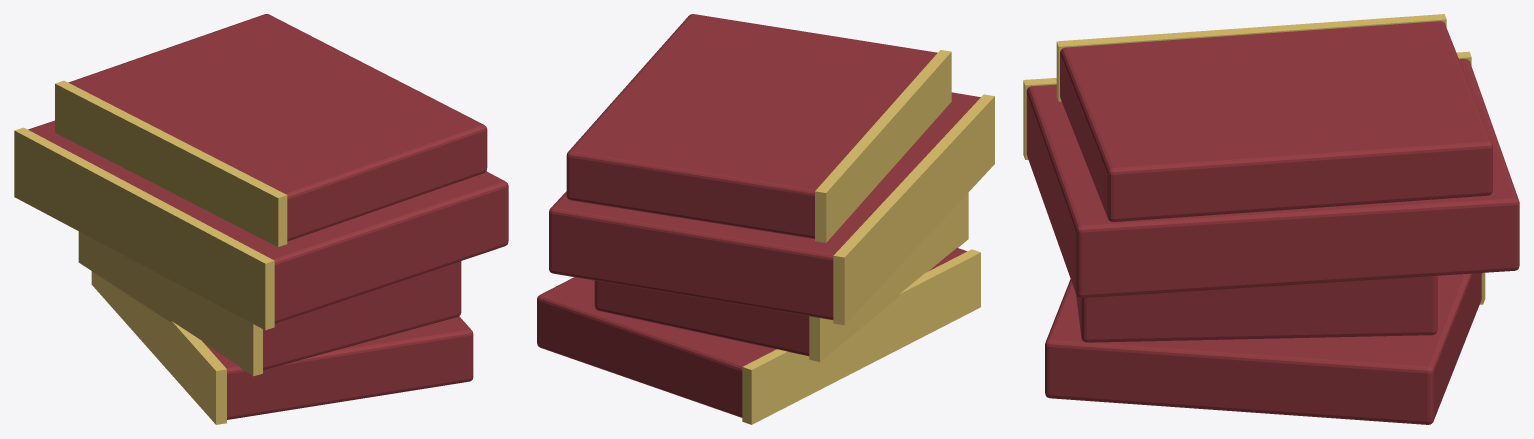
File: book_stack_red_stack.glb
3 views of the same model, side by side, from view 1: azimuth 30°, elevation 25°; view 2: azimuth 150°, elevation 25°; view 3: azimuth 270°, elevation 25° (orthographic). The views are drawn at different scales.
Parts seen in each view (by area): view 1: GD_book_stack_red_stack__m0, GD_book_stack_red_stack__m2; view 2: GD_book_stack_red_stack__m0, GD_book_stack_red_stack__m2; view 3: GD_book_stack_red_stack__m0, GD_book_stack_red_stack__m2.
Part boxes in pixels (x1,y1,x2,y2): GD_book_stack_red_stack__m0: (28, 14, 508, 419); GD_book_stack_red_stack__m2: (14, 80, 287, 424); GD_book_stack_red_stack__m0: (537, 14, 980, 417); GD_book_stack_red_stack__m2: (742, 50, 994, 424); GD_book_stack_red_stack__m0: (1026, 21, 1519, 424); GD_book_stack_red_stack__m2: (1023, 14, 1485, 304).
Bounding box in the file's own units: 0.313 × 0.213 × 0.3755.
